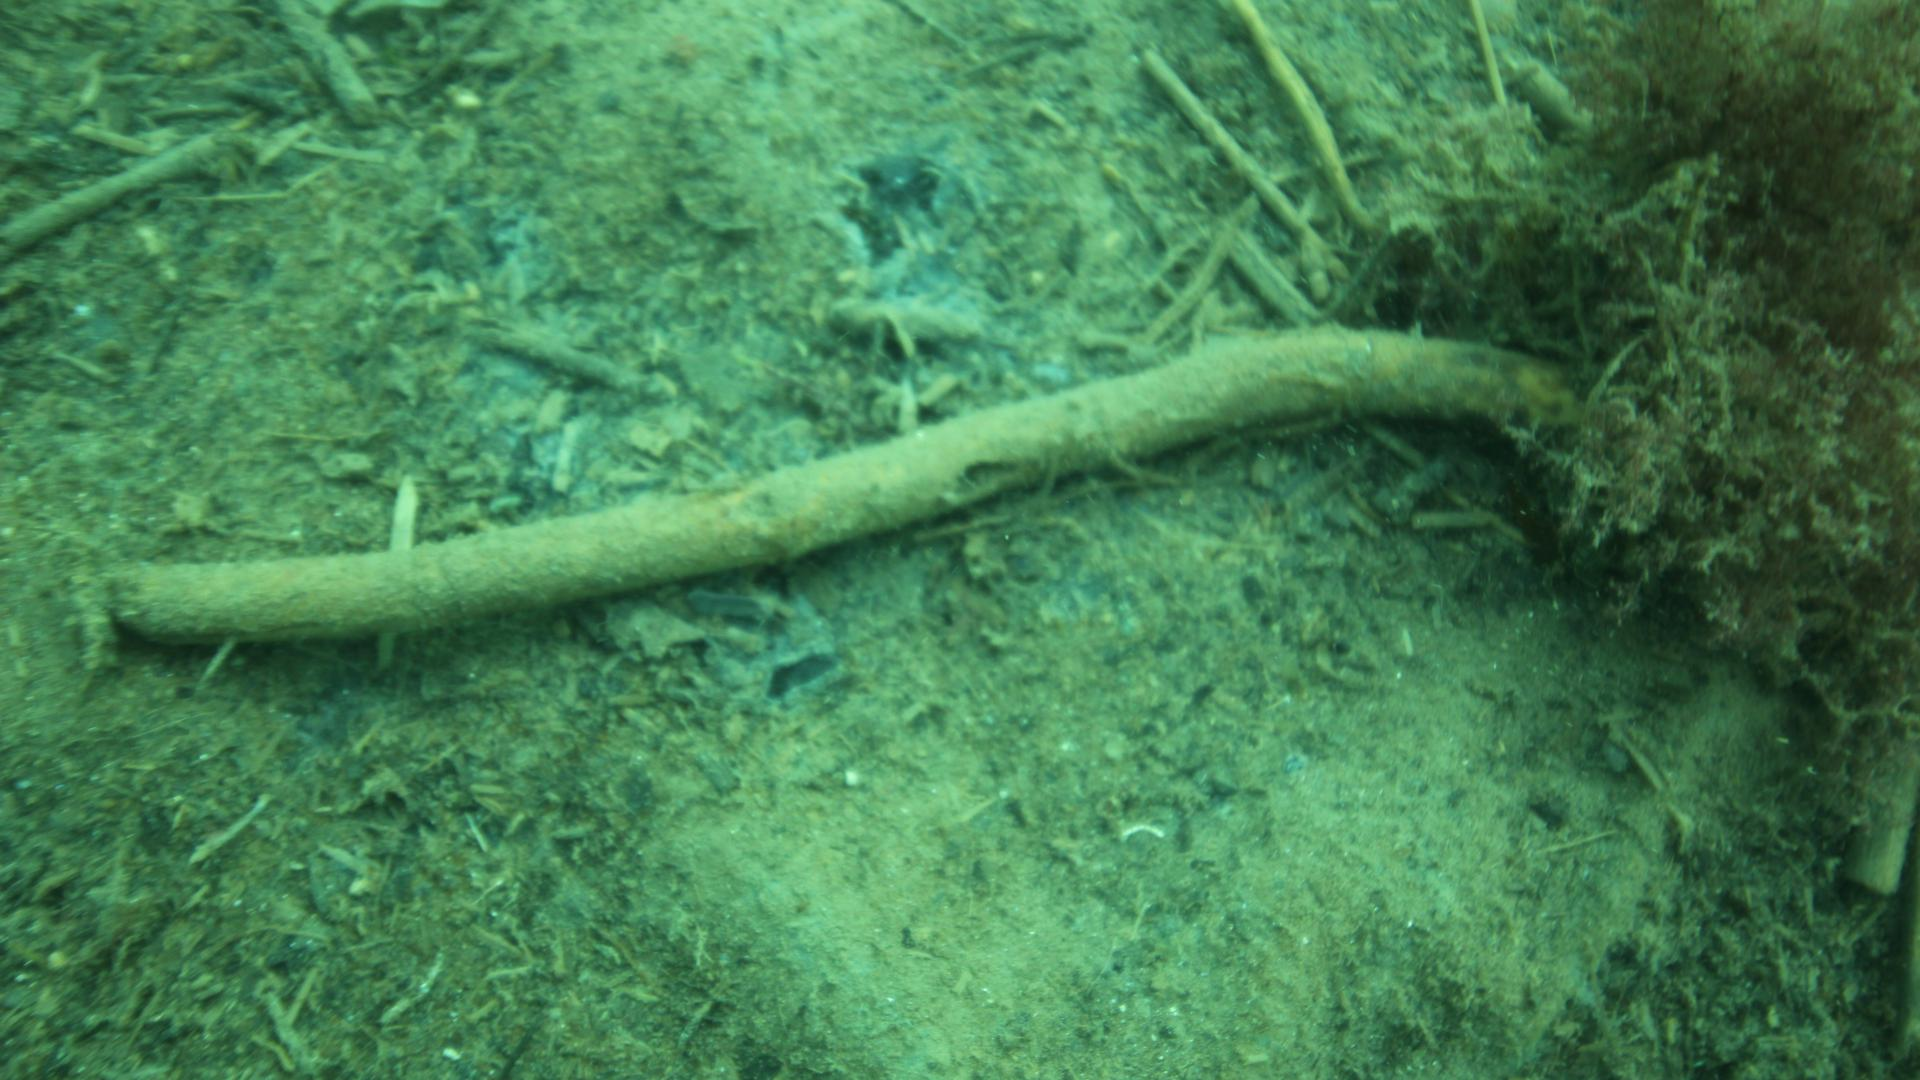wood: (112, 328, 1553, 640)
